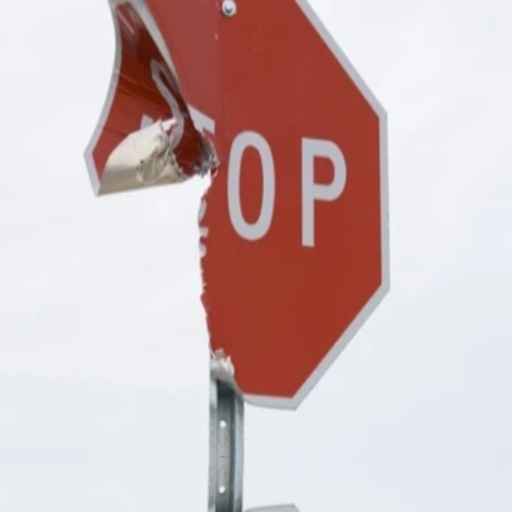Stop: (89, 0, 409, 447)
